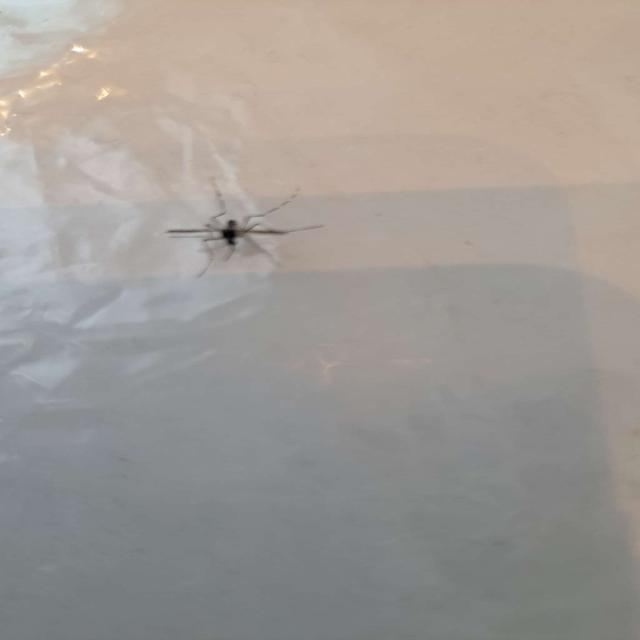albopictus: (160, 181, 322, 279)
